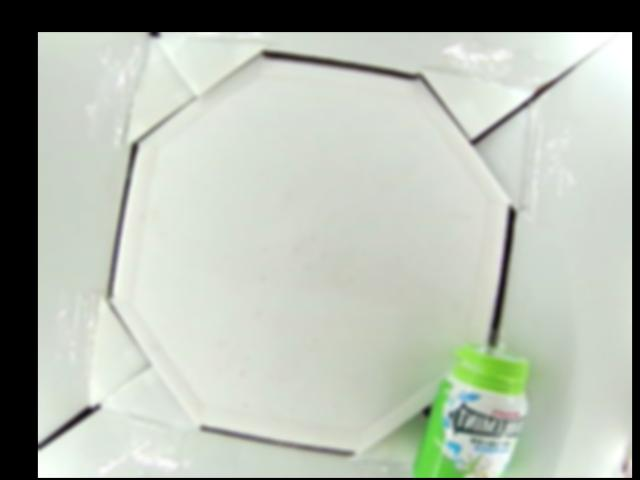Bottle: (406, 340, 531, 477)
